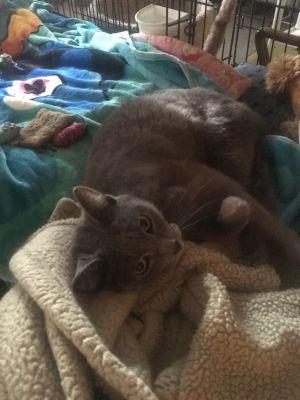rblue: (66, 181, 191, 301)
